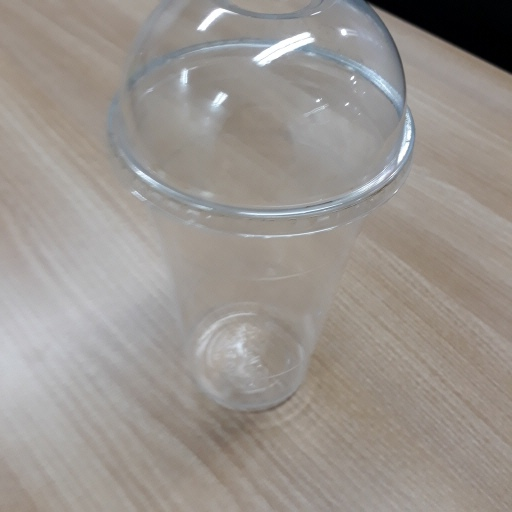Plastic_2: (108, 3, 419, 419)
